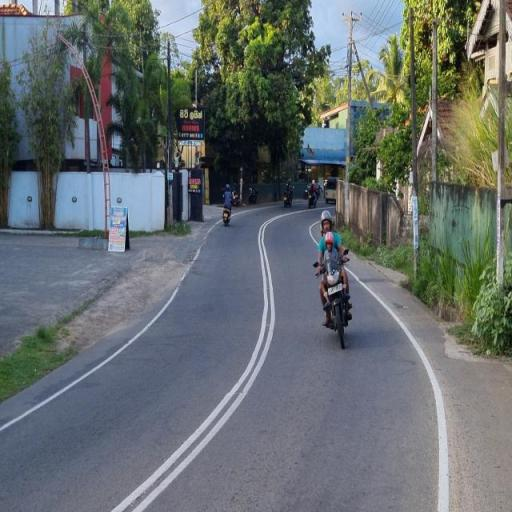double_white_line: (110, 209, 273, 512)
